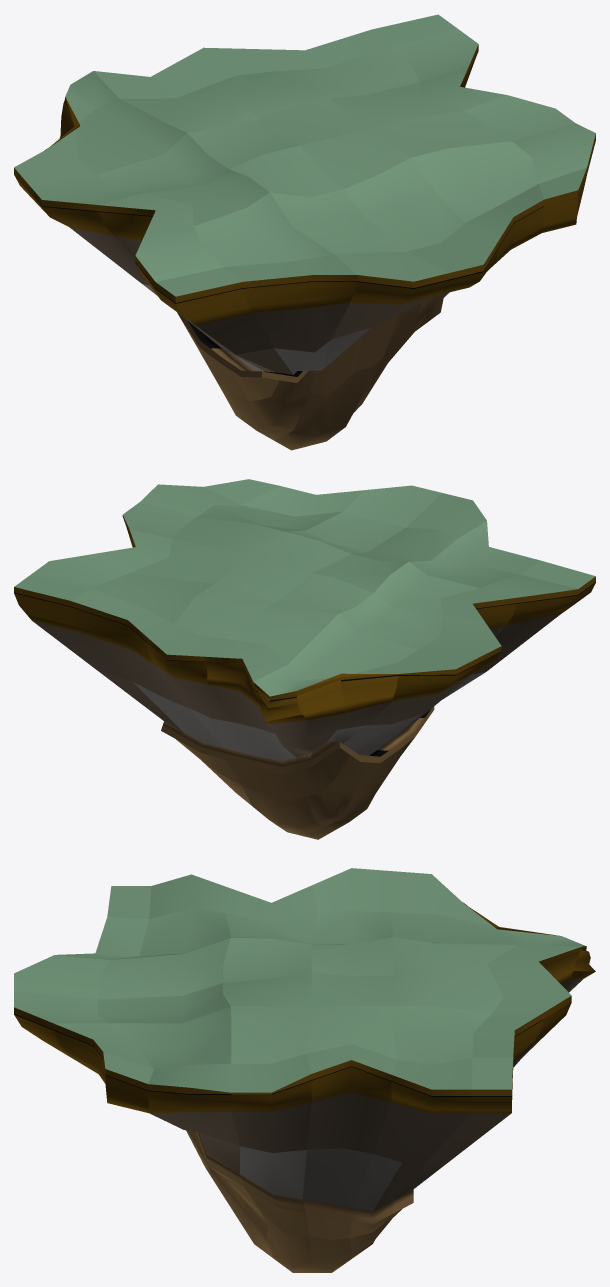
File: Floating_Island.fbx
The picture shows the model from 3 angles, top to bottom: view 1: azimuth 30°, elevation 25°; view 2: azimuth 150°, elevation 25°; view 3: azimuth 270°, elevation 25°; orthographic projection. The views are drawn at different scales.
Parts seen in each view (by area): view 1: pCube2; view 2: pCube2; view 3: pCube2.
Boxes of the visible parts, x1,y1,x2,y2 form: pCube2: (14,14,595,450); pCube2: (14,479,595,839); pCube2: (14,868,595,1272).
Bounding box in the file's own units: 8.43 × 4.96 × 8.95.
